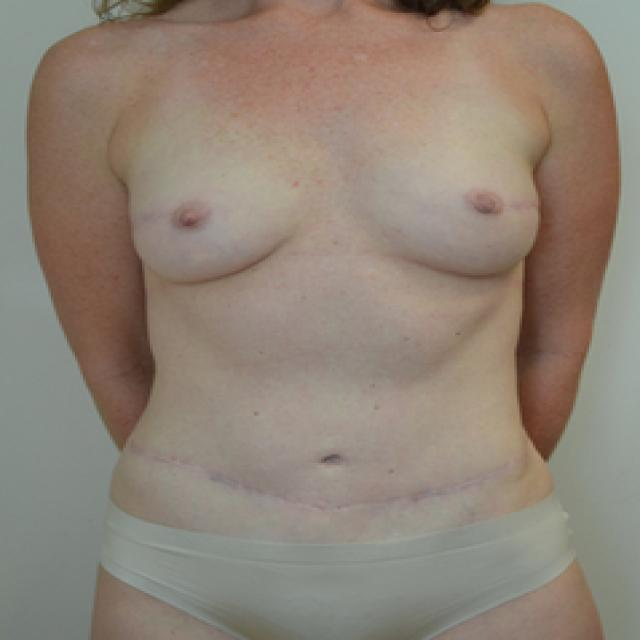Seno ileso: (118, 103, 329, 301), (338, 103, 554, 294)
